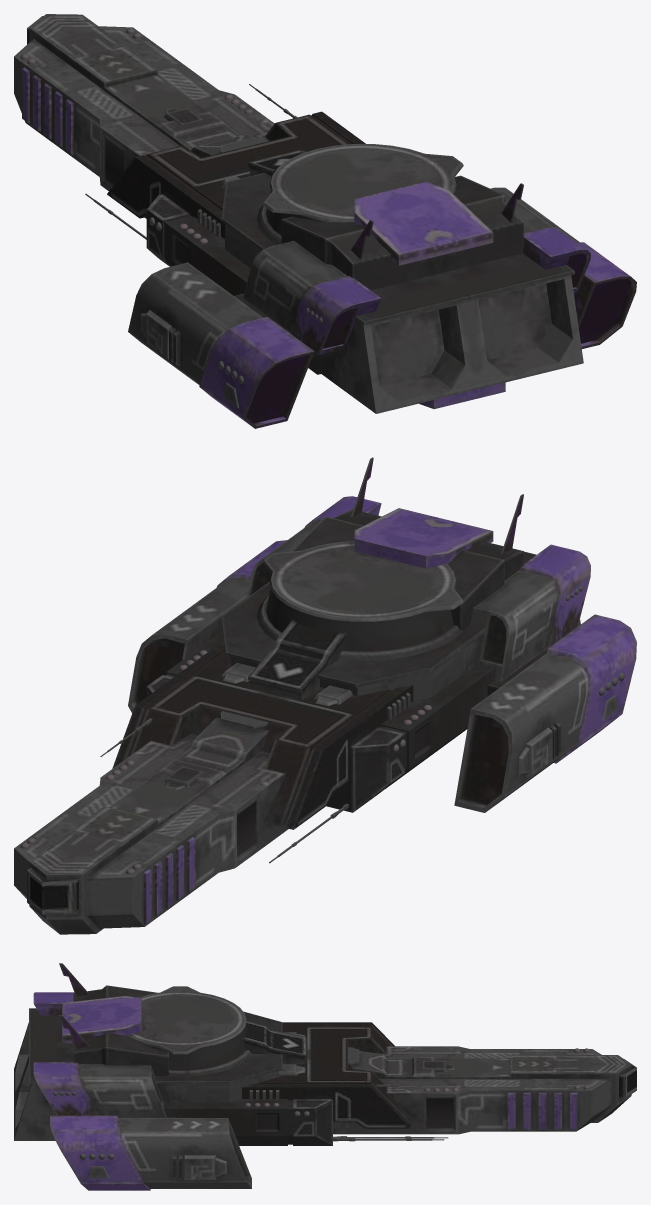
The model's file is insurgent_purple.glb.
The picture shows the model from 3 angles, top to bottom: view 1: azimuth 30°, elevation 25°; view 2: azimuth 150°, elevation 25°; view 3: azimuth 270°, elevation 25°; orthographic projection. The views are drawn at different scales.
Visible parts, largest first — view 1: insurgent_purple; view 2: insurgent_purple; view 3: insurgent_purple.
Part boxes in pixels (bbox=[...]): insurgent_purple: bbox=[14, 14, 636, 428]; insurgent_purple: bbox=[14, 457, 636, 934]; insurgent_purple: bbox=[14, 963, 636, 1190].
Bounding box in the file's own units: 0.5082 × 0.2621 × 1.
Materials: 1 (1 with a texture image).
